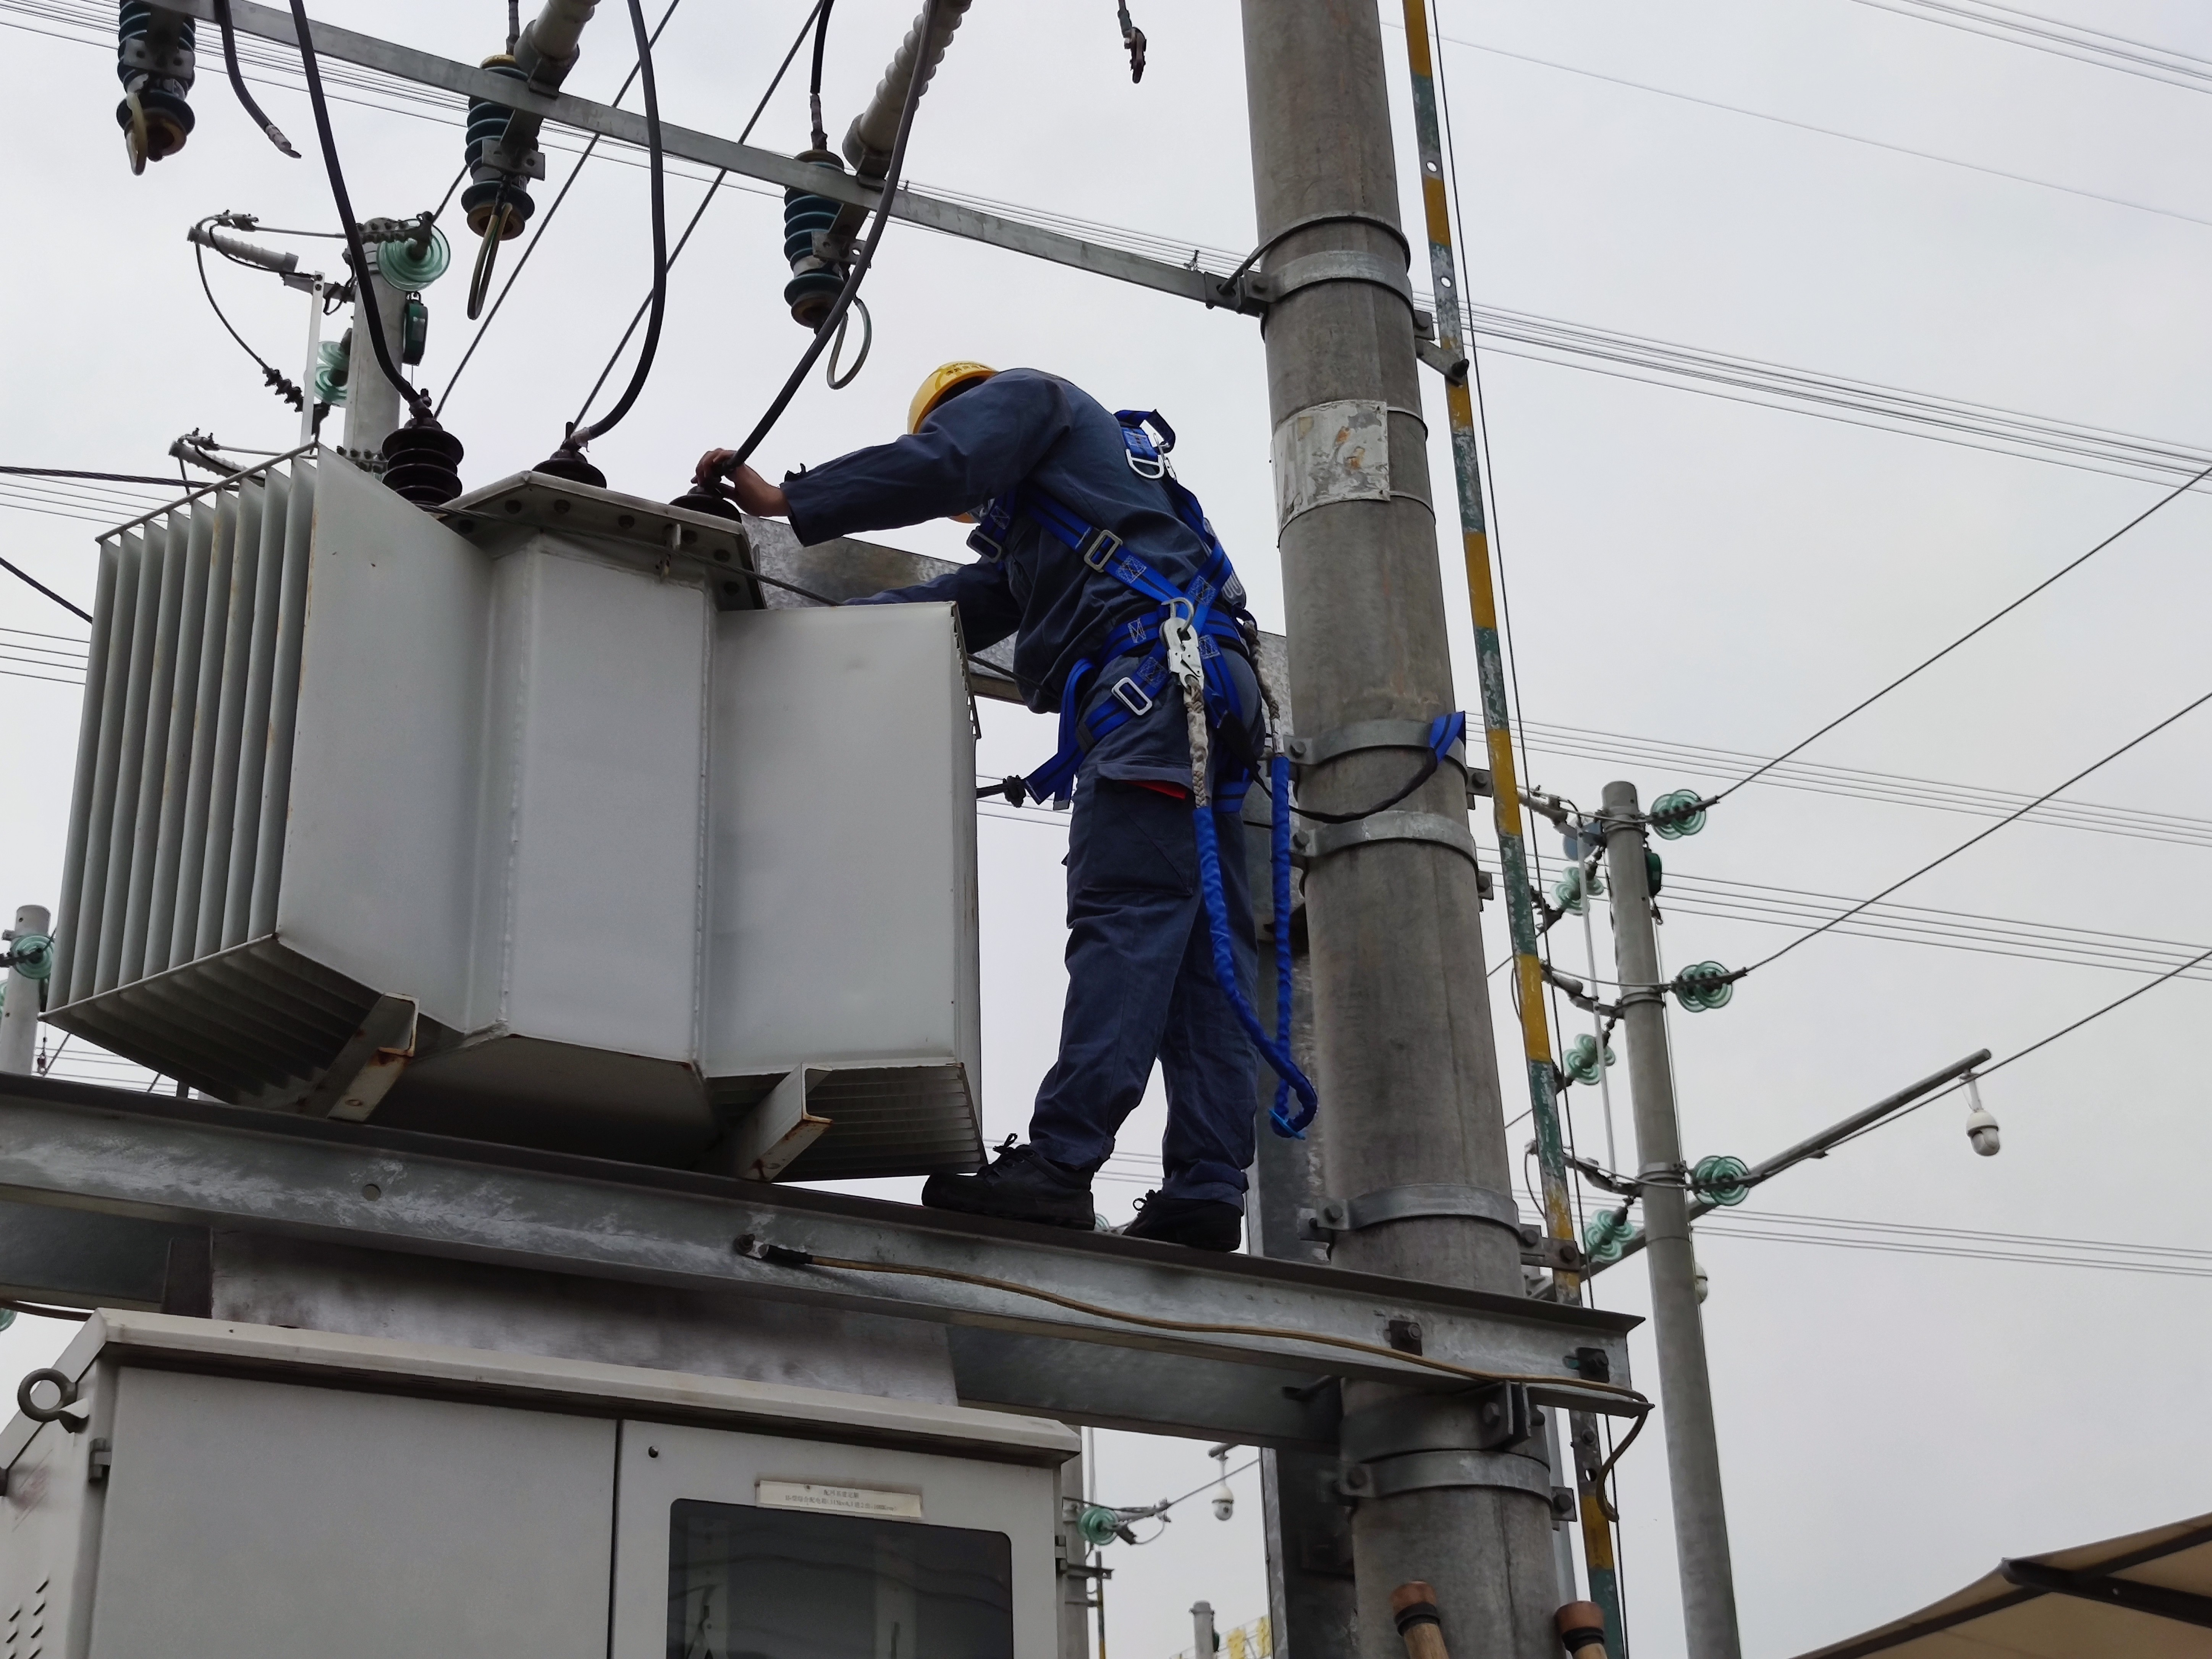downsuit: (1022, 660, 1287, 1194)
upsuit: (784, 369, 1266, 641)
